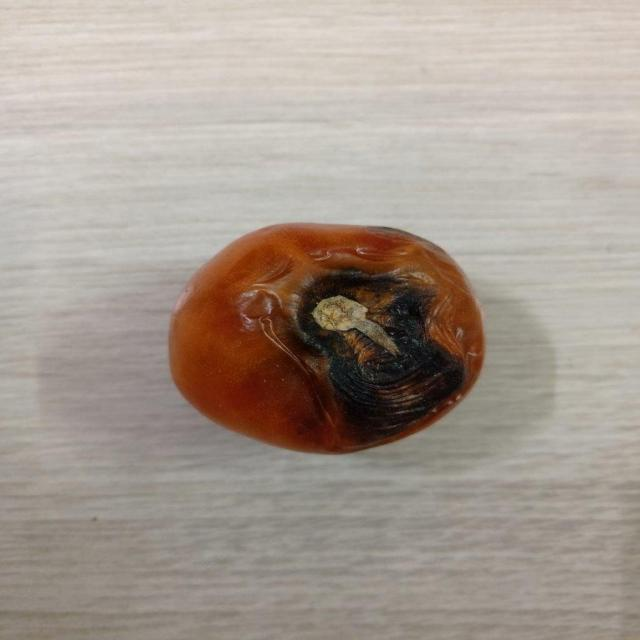Rotten: (169, 222, 484, 455)
